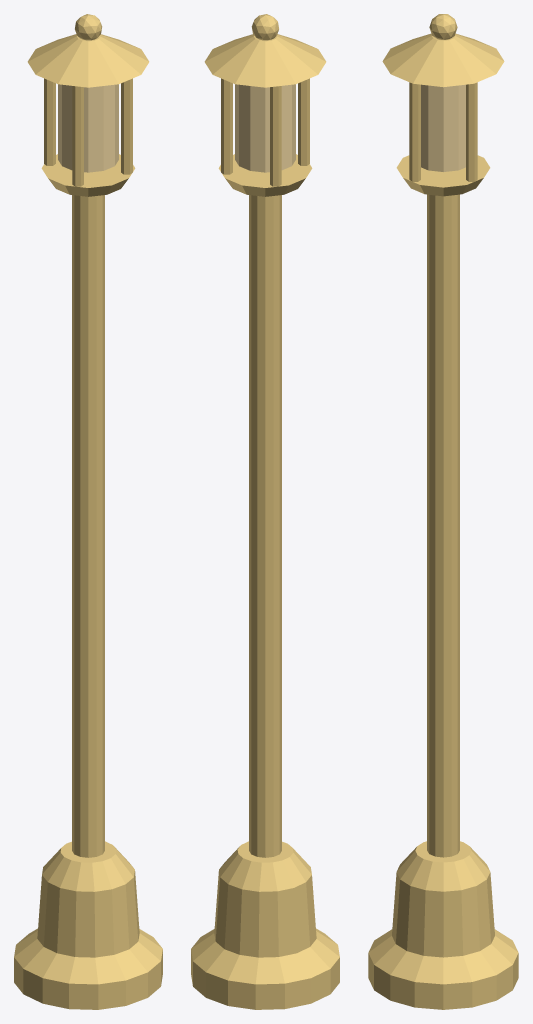
File: HOB_LampPost_Tall.fbx
3 renders of one model, left to right at view 1: azimuth 30°, elevation 25°; view 2: azimuth 150°, elevation 25°; view 3: azimuth 270°, elevation 25°, orthographic.
Parts seen in each view (by area): view 1: HOB_LampPost_Tall; view 2: HOB_LampPost_Tall; view 3: HOB_LampPost_Tall.
Part boxes in pixels (x1=…): HOB_LampPost_Tall: x1=14, y1=14, x2=162, y2=1009; HOB_LampPost_Tall: x1=191, y1=14, x2=339, y2=1009; HOB_LampPost_Tall: x1=368, y1=14, x2=518, y2=1009.
Bounding box in the file's own units: 64 × 453 × 64.
